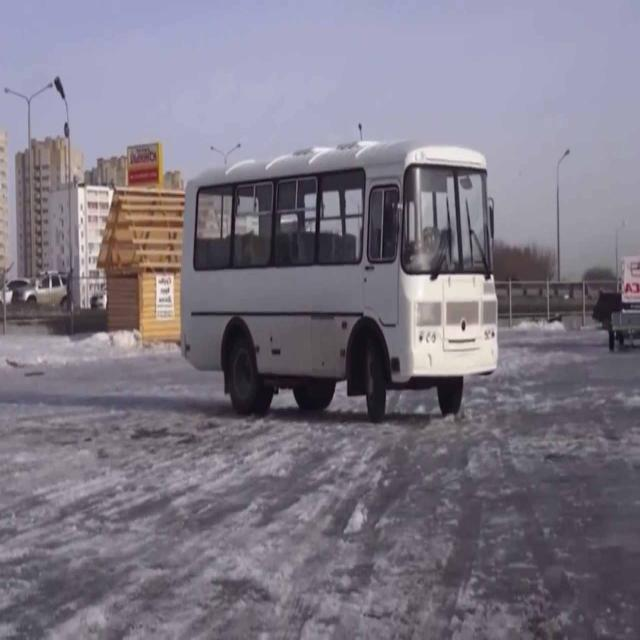bus: (179, 132, 504, 424)
